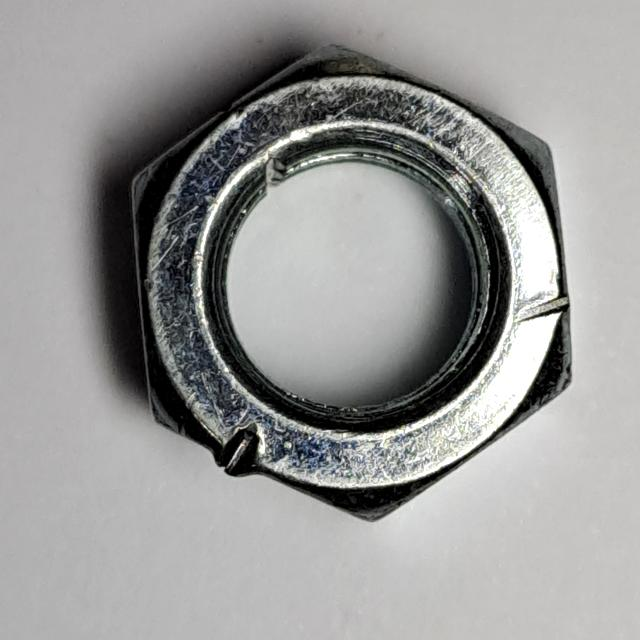Scratches: (125, 34, 587, 541)
